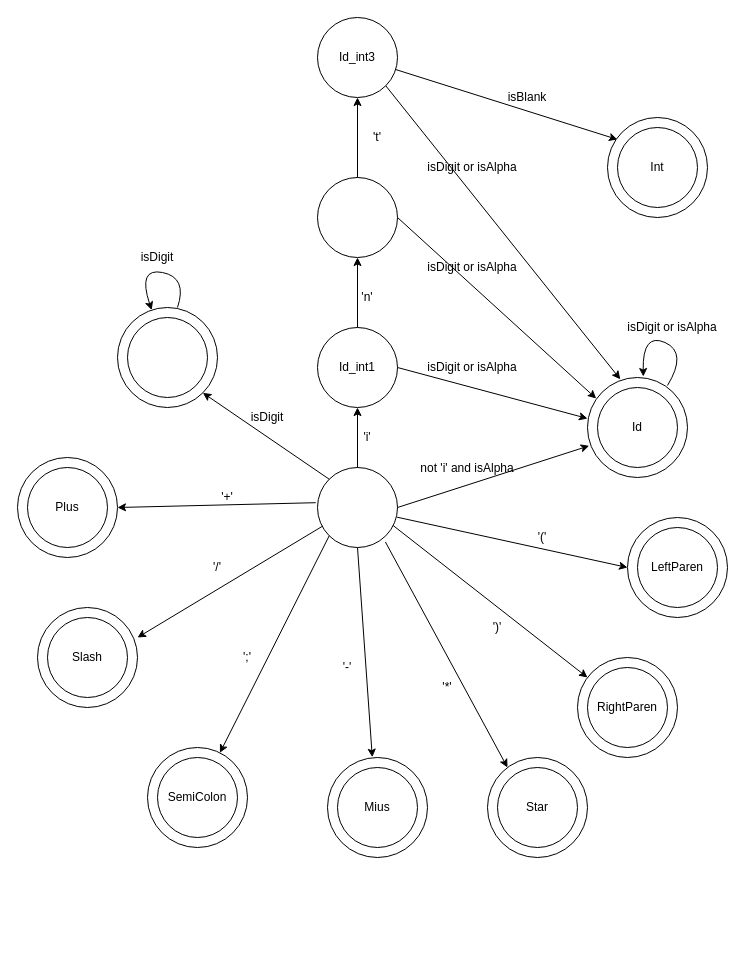
This 745x975 diagram has some shape labels left out. The shapes that lost their labels are listed below. From the top down, each one's centre as x and y in pixels, then its label:
(x=357, y=217): Id_int2
(x=167, y=357): IntLiteral
(x=357, y=507): Initial
